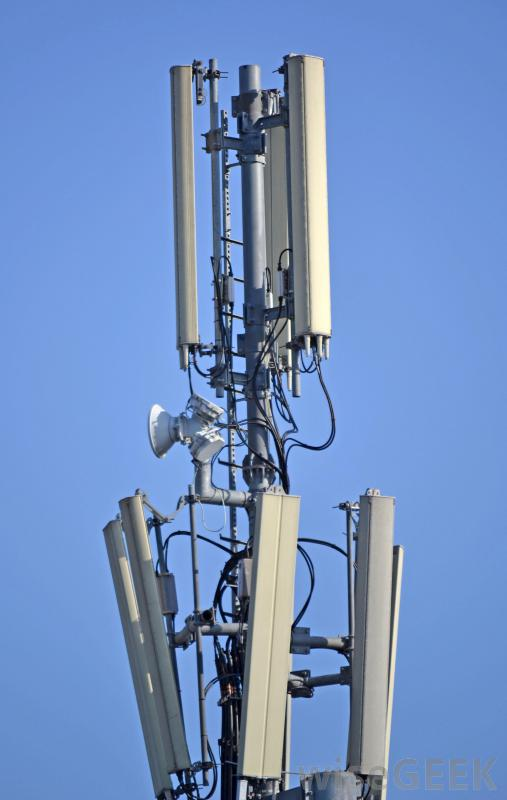a: (288, 57, 333, 336), (249, 493, 287, 775), (356, 496, 393, 773), (168, 65, 200, 347)
